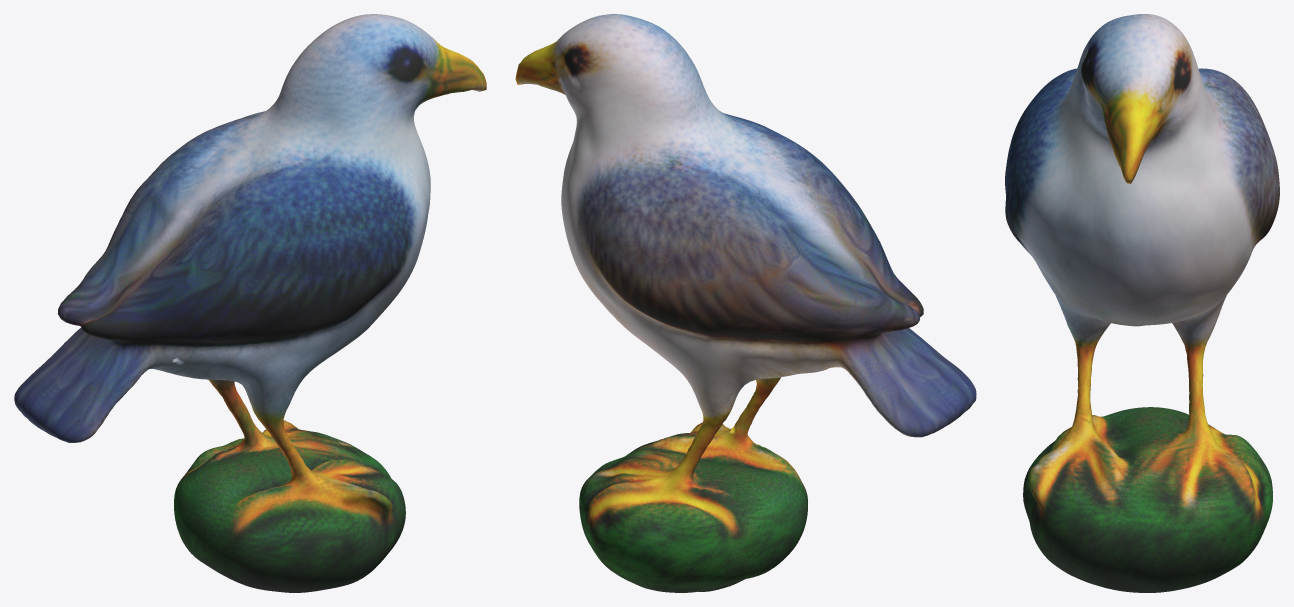
File: Stork.glb
3 renders of one model, left to right at view 1: azimuth 30°, elevation 25°; view 2: azimuth 150°, elevation 25°; view 3: azimuth 270°, elevation 25°, orthographic. The views are drawn at different scales.
Parts seen in each view (by area): view 1: Mesh1; view 2: Mesh1; view 3: Mesh1.
Boxes of the visible parts, x1,y1,x2,y2 form: Mesh1: (14,14,486,592); Mesh1: (515,14,976,592); Mesh1: (1005,14,1279,592).
Size of the model in its own units: 1.04 by 1.2 by 0.5015.
1 material, 1 textured.
